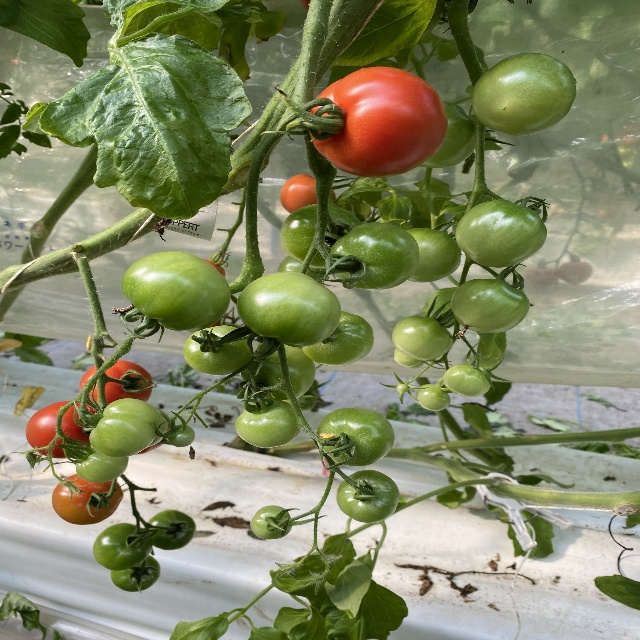l_fully_ripened: (308, 67, 448, 178), (25, 398, 102, 459), (80, 360, 153, 413), (281, 174, 337, 214)
l_green: (472, 52, 577, 137), (122, 251, 232, 332), (237, 271, 342, 347), (455, 200, 548, 268), (329, 222, 420, 290), (281, 203, 365, 270), (90, 398, 169, 458), (317, 407, 395, 466), (242, 339, 316, 400), (450, 278, 530, 333), (301, 311, 375, 366), (418, 101, 476, 168), (335, 469, 400, 523), (185, 326, 254, 376), (235, 398, 301, 448), (405, 227, 462, 283), (92, 523, 153, 571), (391, 316, 454, 360), (145, 509, 197, 550), (110, 554, 161, 592), (76, 448, 128, 483), (443, 364, 492, 397), (250, 505, 292, 540), (277, 255, 328, 283), (416, 384, 451, 410), (394, 347, 424, 369), (168, 425, 195, 447), (396, 383, 409, 393)
l_half_ripened: (51, 473, 124, 525)
